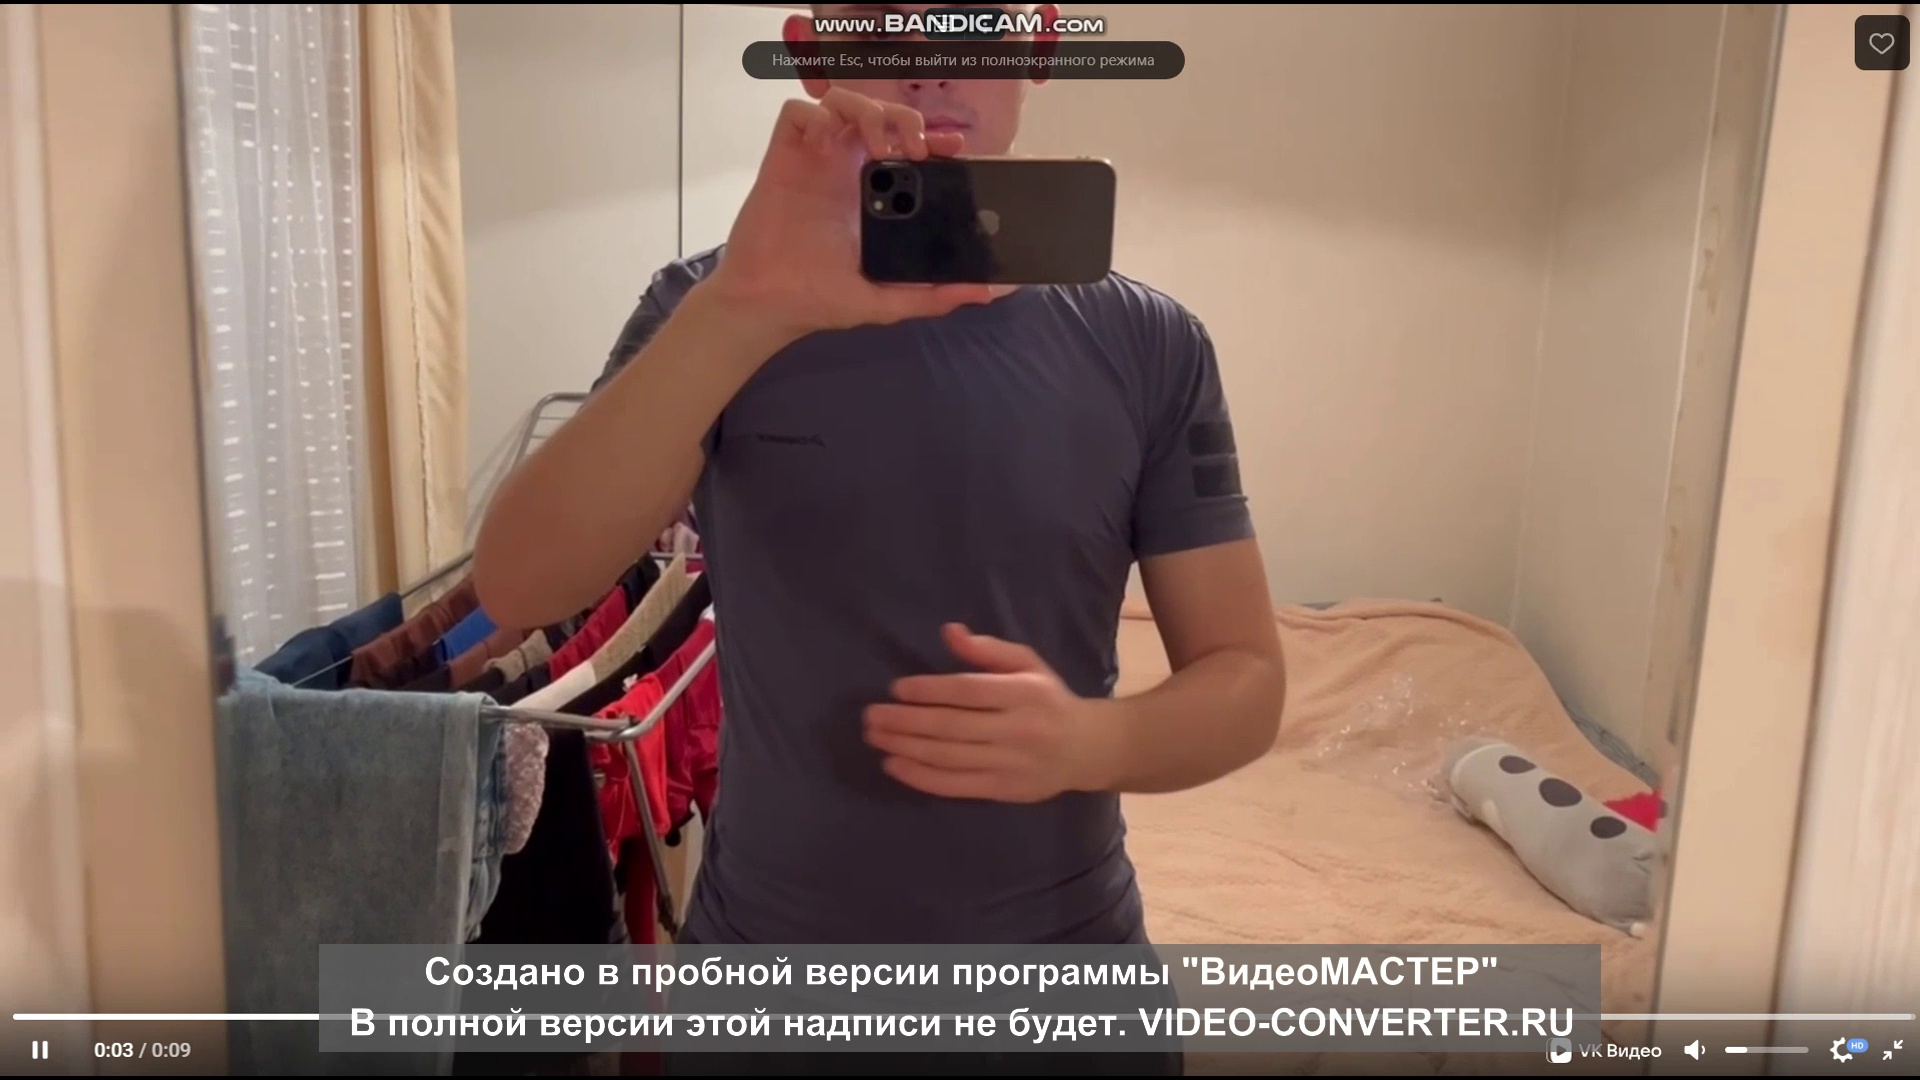Кисть: (864, 618, 1083, 806)
